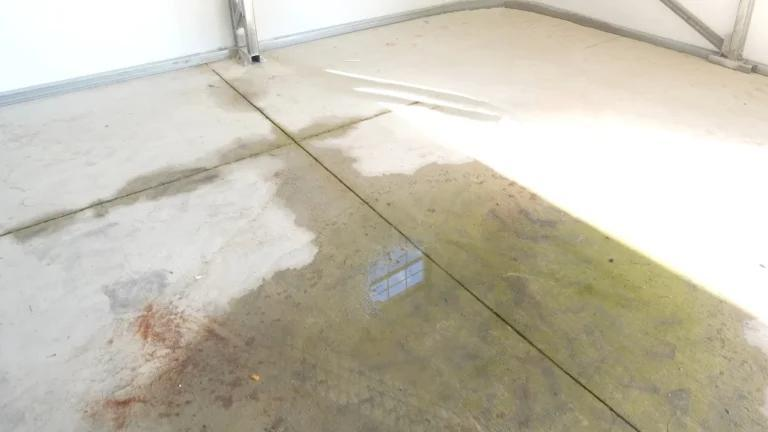water accumulation: (25, 121, 764, 427)
